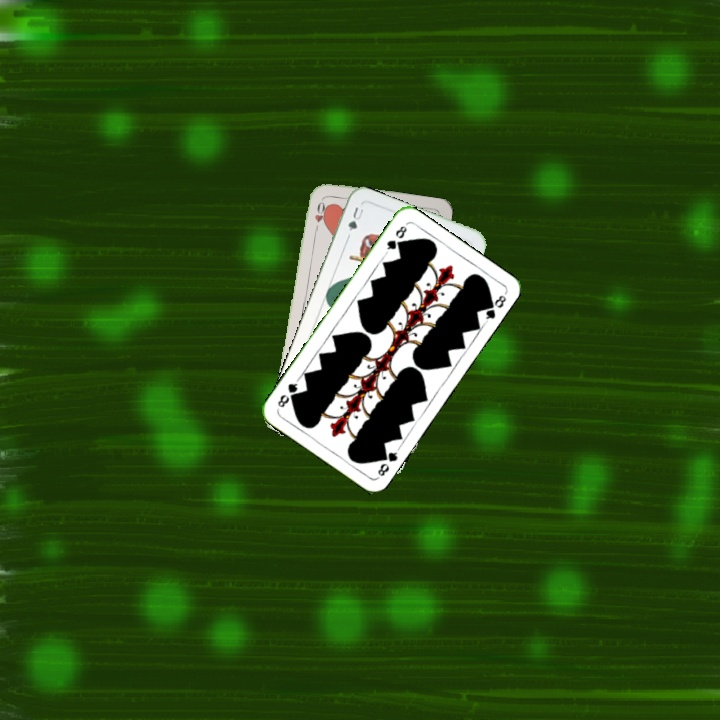G8: (373, 444, 402, 480), (382, 221, 409, 256)
GU: (344, 203, 366, 233)
HO: (310, 195, 327, 235)
